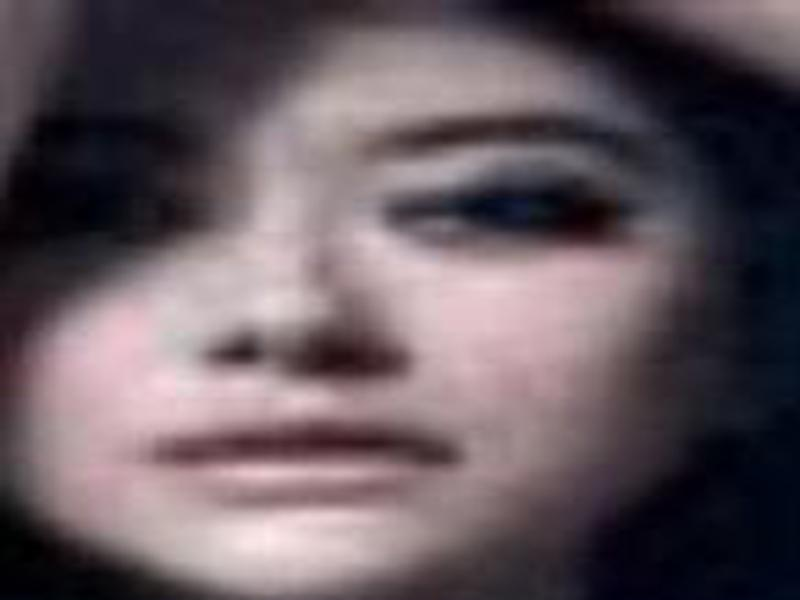without_mask: (4, 31, 714, 600)
